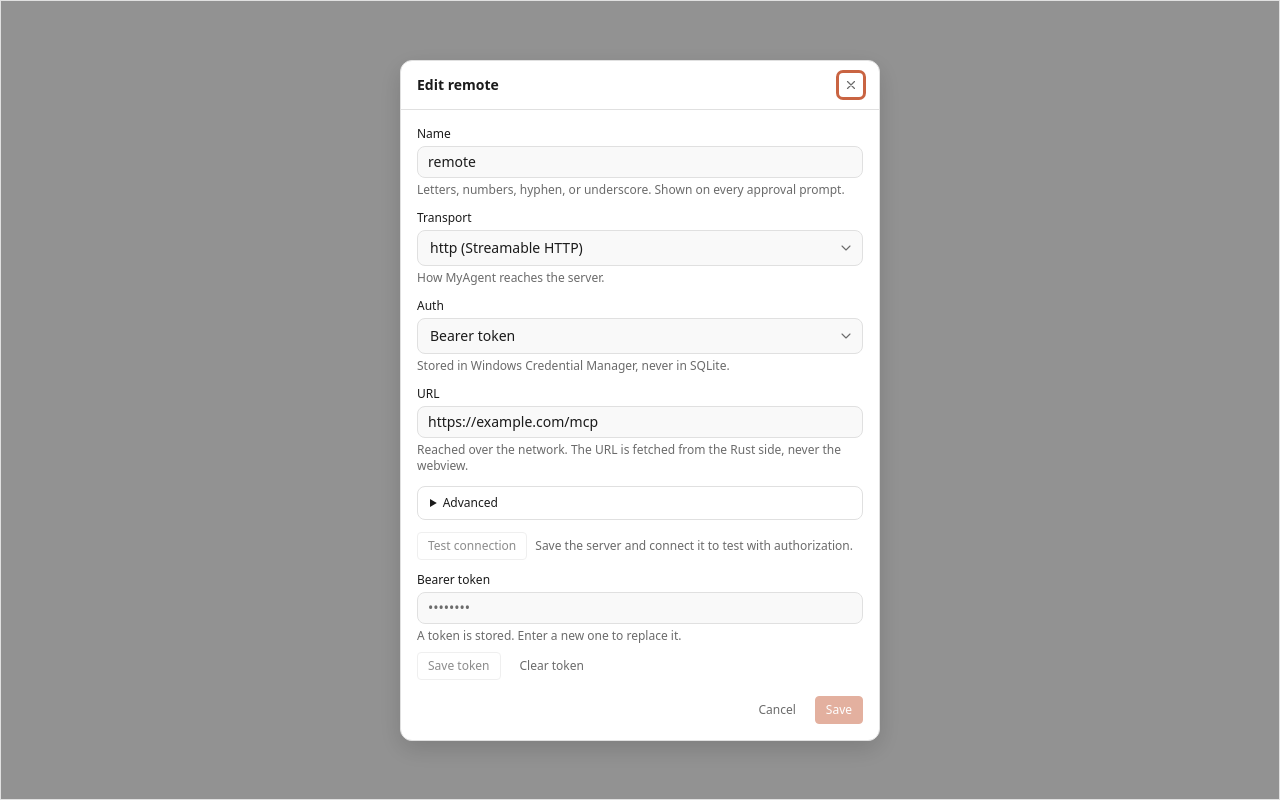
McpServerDialog bearer token › clears a stored token
The width and height of the screenshot is (1280, 800).
Click the button "Clear token": (552, 666) 508,652 -> 595,680
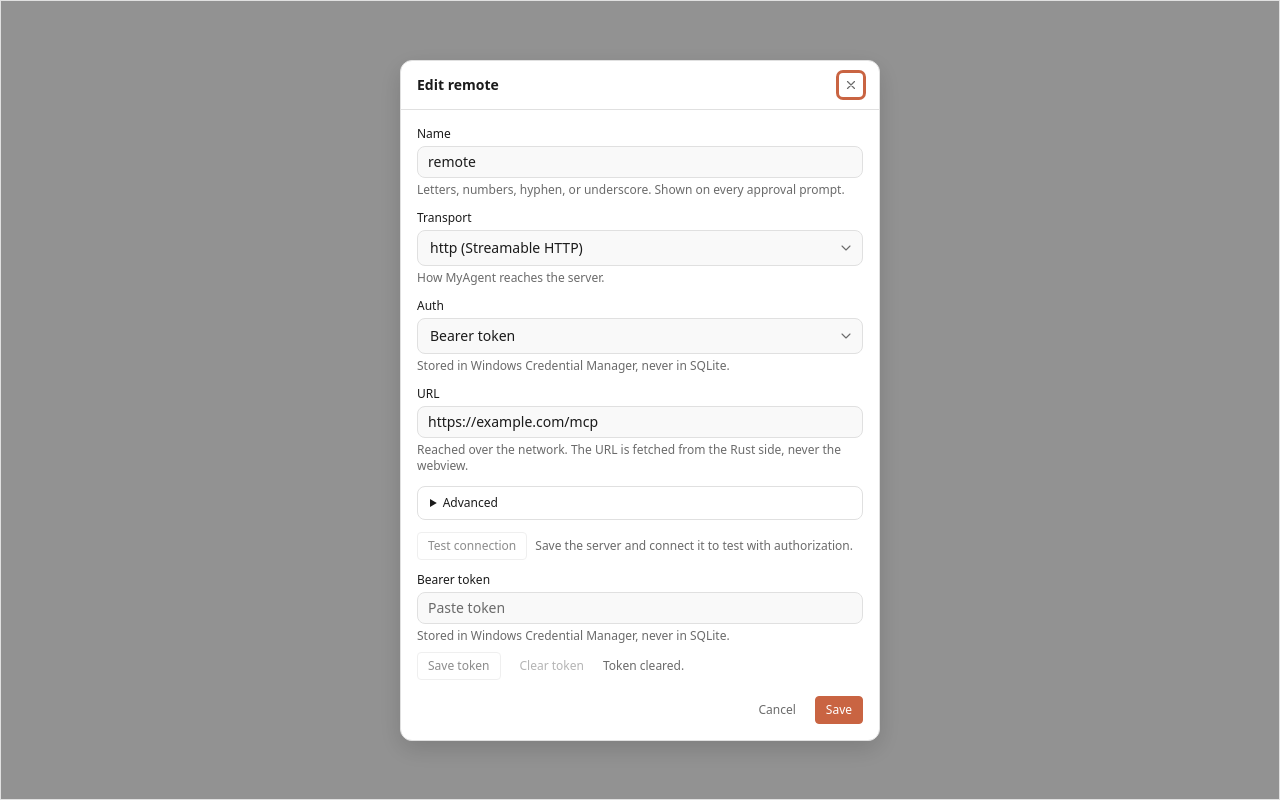
Expected: the text "Token cleared." is shown, 603,658 -> 684,674
